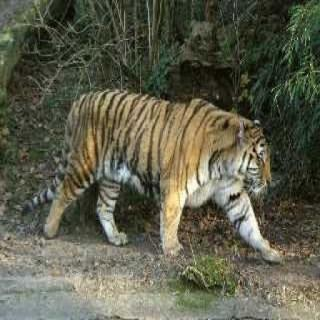Tiger: (37, 73, 305, 278)
